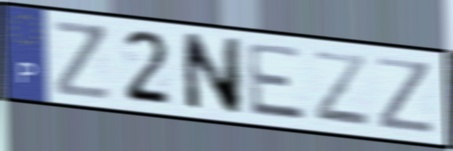2: (120, 28, 176, 108)
E: (244, 40, 310, 124)
N: (179, 29, 244, 117)
Z: (51, 18, 114, 103), (375, 54, 439, 137), (311, 47, 373, 130)
